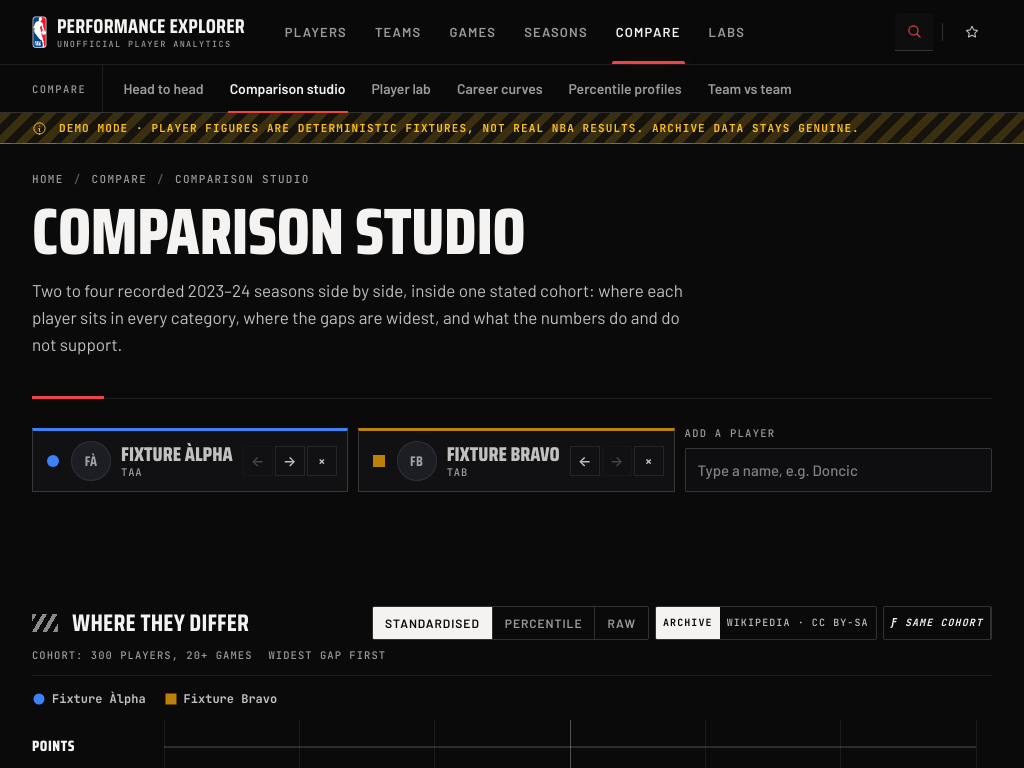
Test: comparison studio › shows the gap board, statements and exact values, and switches scale
Click the button "Percentile" at (543, 623), box [492,607,594,639]
(page scrolled)
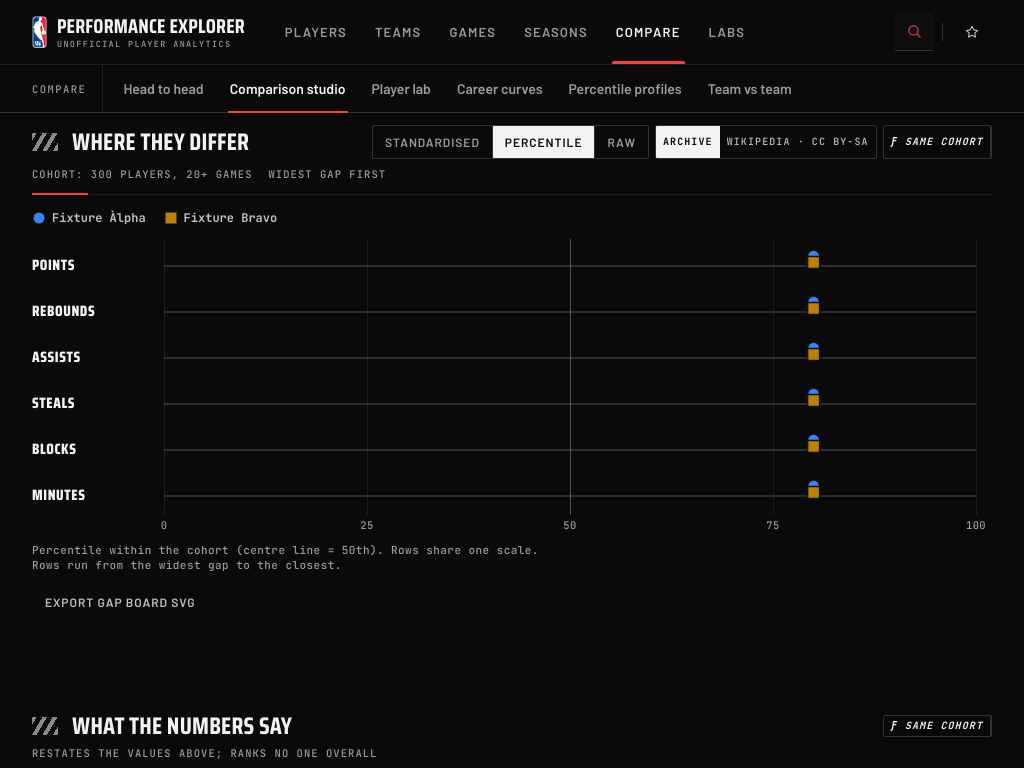
Result: the picture named "Gap board on the percentile scale" is shown at [32,233,992,535]
